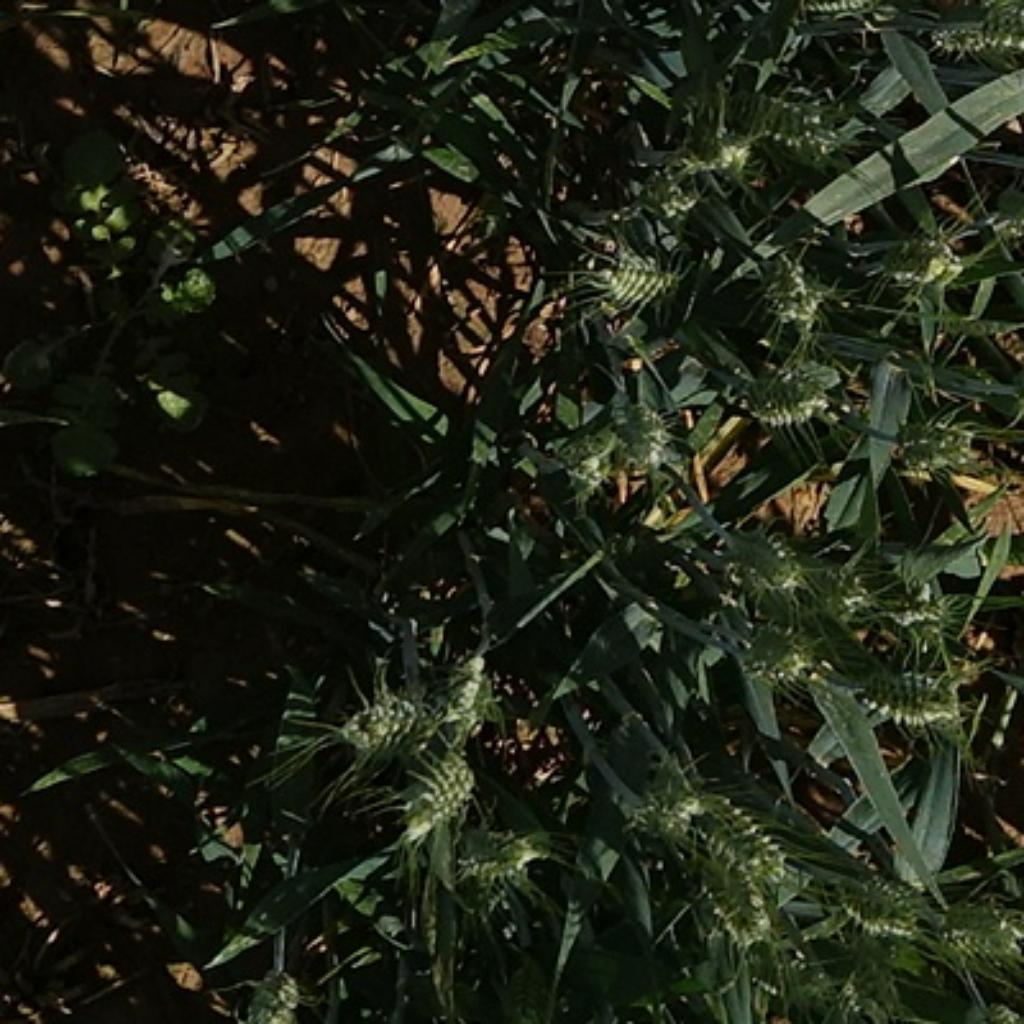0-0: (647, 832, 788, 929), (665, 778, 785, 883), (839, 655, 975, 737), (732, 76, 847, 166), (581, 384, 683, 481), (704, 521, 814, 608), (727, 348, 839, 430), (929, 885, 1024, 975), (673, 102, 757, 202), (320, 682, 417, 767), (865, 217, 965, 299), (417, 647, 506, 739), (888, 399, 980, 481), (832, 862, 929, 939), (913, 0, 1024, 66), (448, 819, 540, 898), (729, 609, 819, 688), (236, 938, 318, 1024), (399, 750, 478, 837), (593, 235, 683, 309), (747, 243, 824, 325), (890, 575, 974, 647), (834, 931, 901, 1018), (809, 554, 877, 620), (983, 174, 1024, 248), (156, 268, 218, 309), (793, 0, 903, 20)
